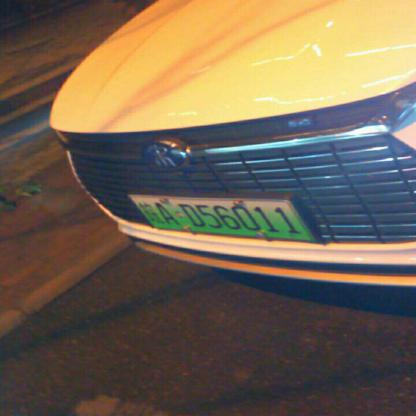lp: (130, 195, 313, 240)
